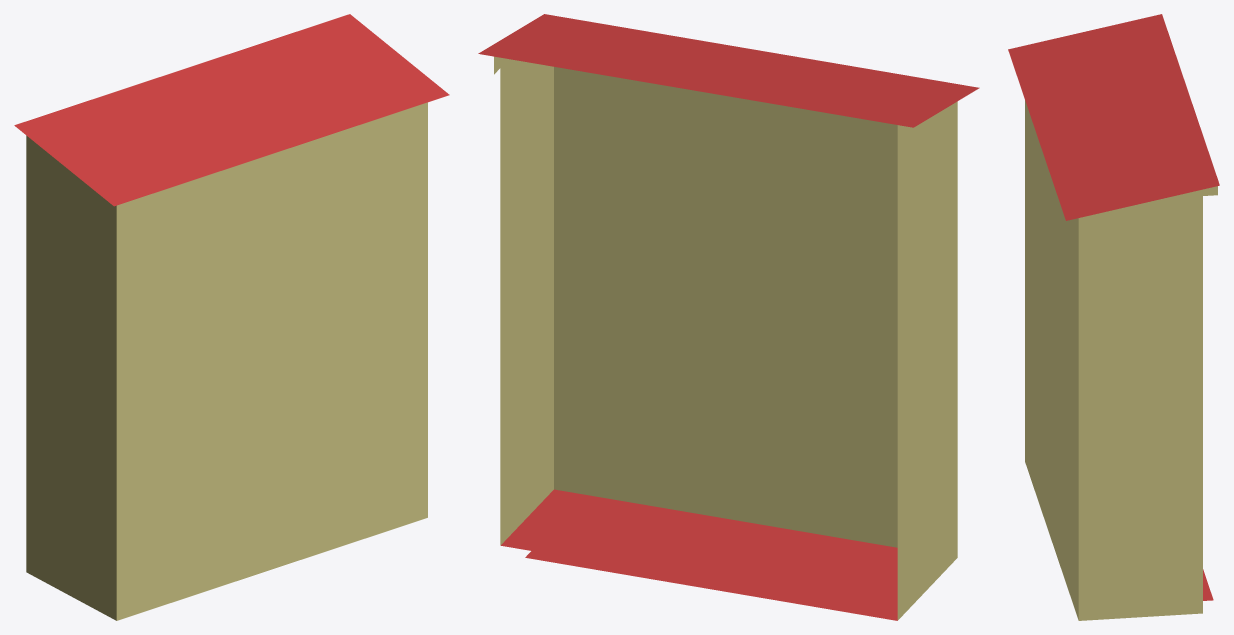
3 renders of one model, left to right at view 1: azimuth 30°, elevation 25°; view 2: azimuth 150°, elevation 25°; view 3: azimuth 270°, elevation 25°, orthographic. The views are drawn at different scales.
Bounding box in the file's own units: 7.09 × 3.51 × 7.92.
